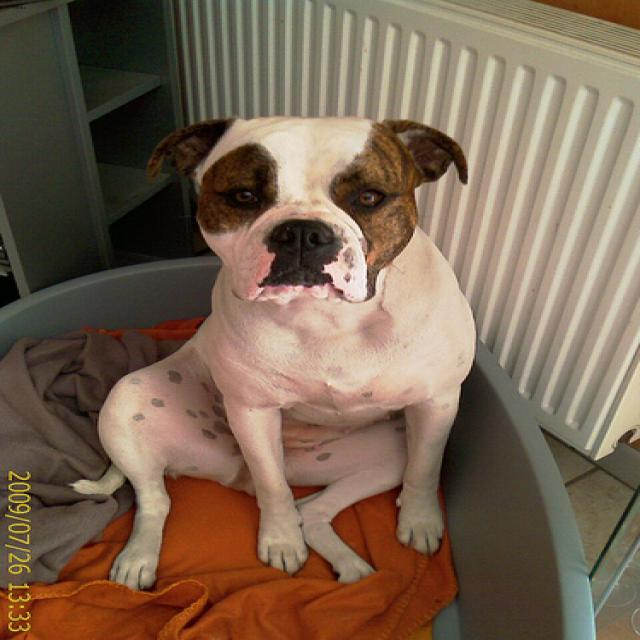dog-american_bulldog: (55, 102, 481, 595)
